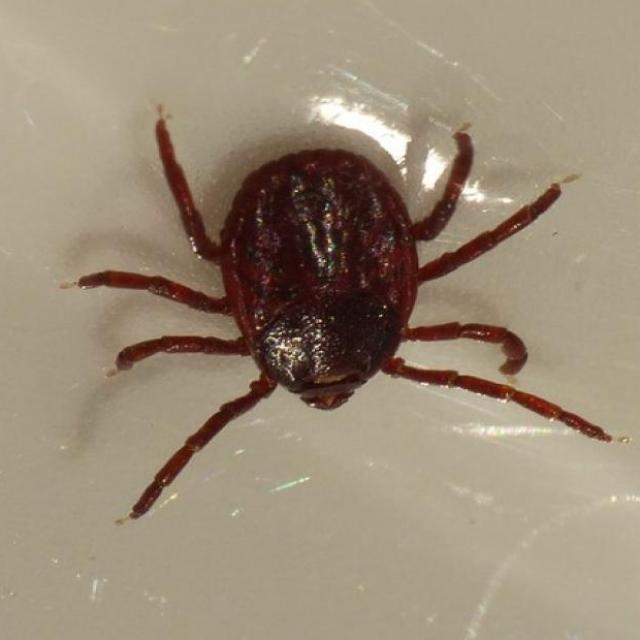Rhipicephalus Sanguineus-F: (56, 111, 613, 519)
